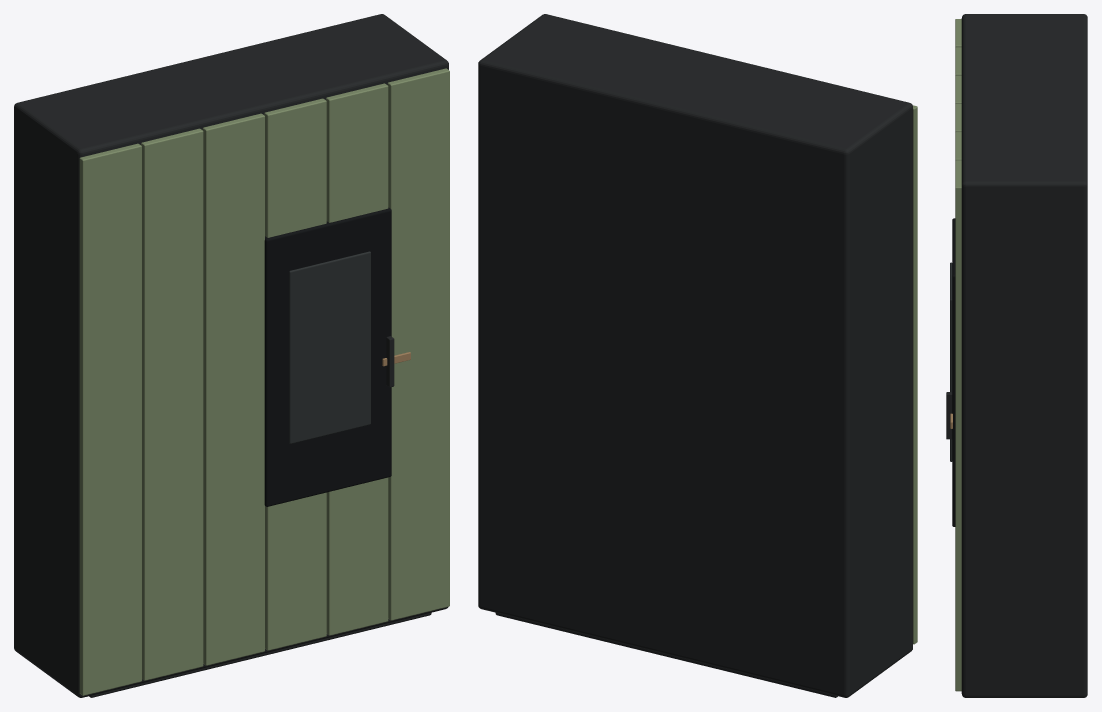
Rendered from ravelli-line-verde.glb.
3 views of the same model, side by side, from view 1: azimuth 30°, elevation 25°; view 2: azimuth 150°, elevation 25°; view 3: azimuth 270°, elevation 25° (orthographic). The views are drawn at different scales.
Parts seen in each view (by area): view 1: Corpo, Pannello verticale, Pannello verticale.001, Pannello verticale.002, Pannello verticale.005, Porta, Pannello verticale.004, Pannello verticale.003, Vetro sportello, Zoccolo; view 2: Corpo, Pannello verticale, Zoccolo; view 3: Corpo, Pannello verticale.005, Porta, Vetro sportello, Maniglia.
Part boxes in pixels (left/top/right/bottom): Corpo: left=14, top=14, right=448, bottom=697; Pannello verticale: left=79, top=143, right=141, bottom=695; Pannello verticale.001: left=141, top=128, right=203, bottom=680; Pannello verticale.002: left=202, top=113, right=264, bottom=665; Pannello verticale.005: left=387, top=68, right=449, bottom=620; Porta: left=264, top=207, right=391, bottom=506; Pannello verticale.004: left=326, top=83, right=388, bottom=635; Pannello verticale.003: left=264, top=98, right=326, bottom=650; Vetro sportello: left=289, top=251, right=370, bottom=443; Zoccolo: left=89, top=612, right=431, bottom=697; Corpo: left=478, top=14, right=912, bottom=697; Pannello verticale: left=913, top=105, right=917, bottom=644; Zoccolo: left=495, top=613, right=837, bottom=697; Corpo: left=961, top=14, right=1087, bottom=697; Pannello verticale.005: left=955, top=160, right=961, bottom=691; Porta: left=952, top=218, right=955, bottom=526; Vetro sportello: left=950, top=262, right=952, bottom=461; Maniglia: left=946, top=392, right=952, bottom=439.
Bounding box in the file's own units: 0.8 × 1.14 × 0.281.
